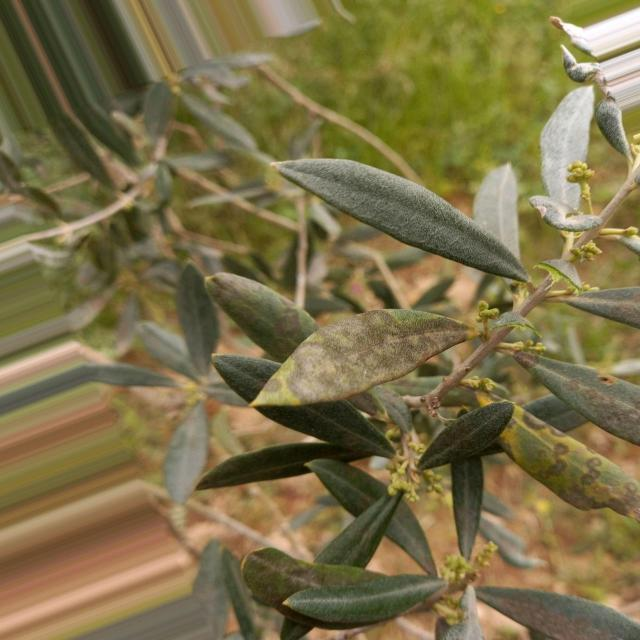Peacock Eye: (250, 309, 478, 407), (499, 402, 640, 519), (512, 352, 640, 445), (206, 272, 317, 361)
